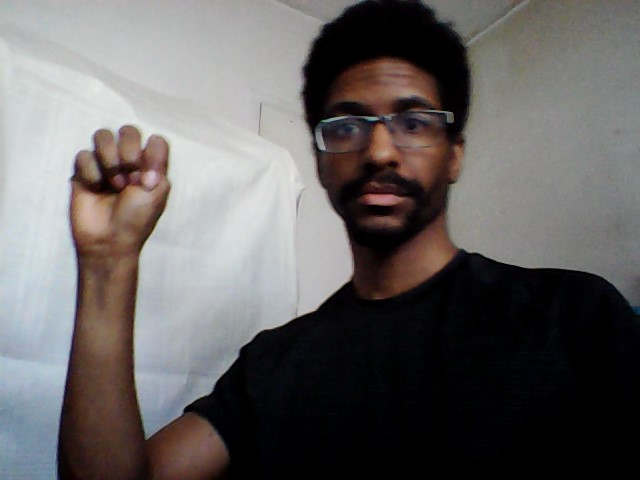m: (66, 121, 174, 262)
